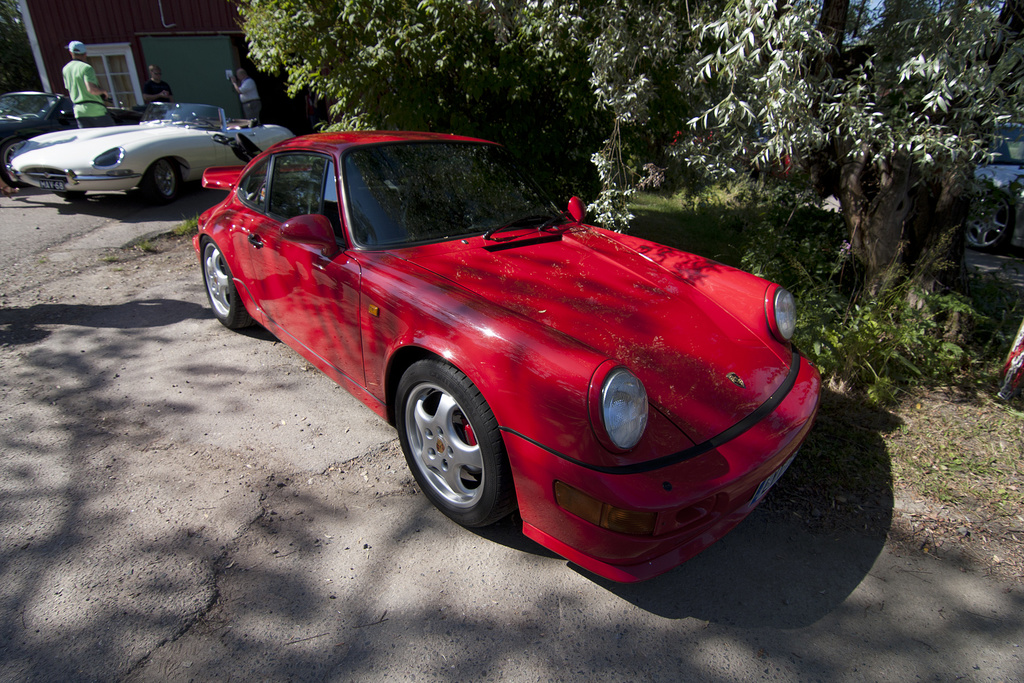Car: (188, 128, 821, 586), (4, 103, 291, 211), (0, 89, 79, 142)
